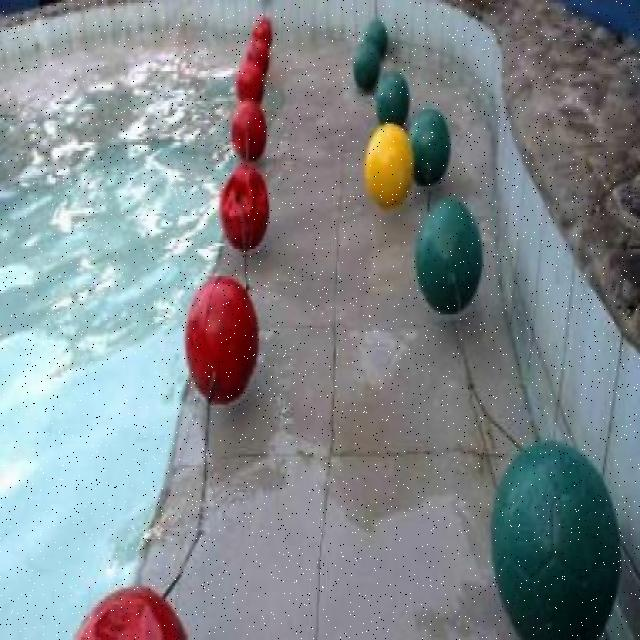buoy: (490, 440, 621, 638), (184, 272, 260, 401), (415, 198, 484, 316), (74, 584, 188, 636), (364, 121, 414, 208), (216, 164, 269, 246), (406, 108, 450, 188), (229, 96, 266, 161), (376, 70, 410, 126), (351, 36, 379, 90), (235, 59, 263, 110), (244, 37, 269, 78), (366, 19, 388, 58)
